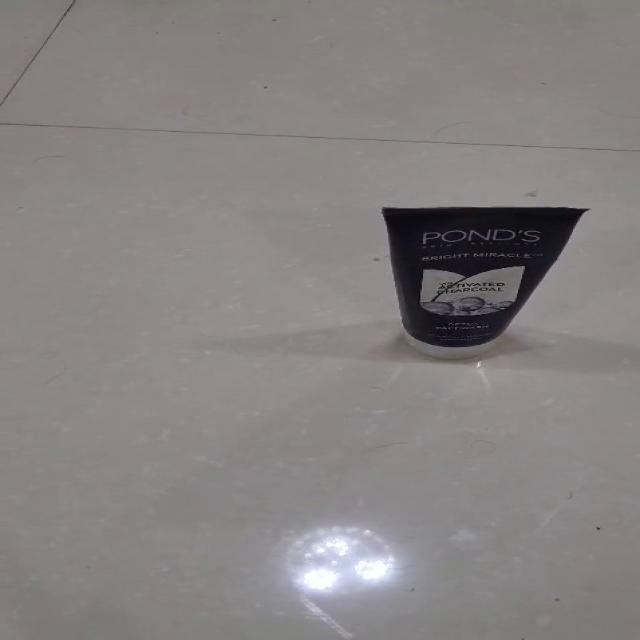plastic: (379, 205, 589, 359)
